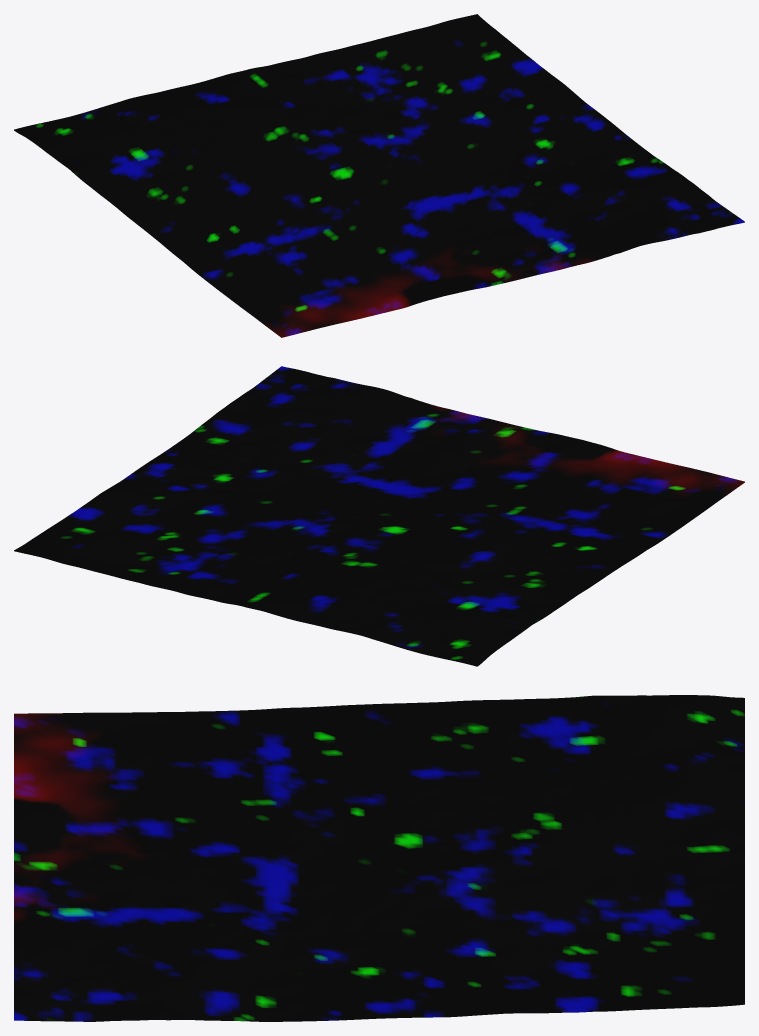
Rendered from coast_-800_-1600_800.glb.
3 views of the same model, one above another, from view 1: azimuth 30°, elevation 25°; view 2: azimuth 150°, elevation 25°; view 3: azimuth 270°, elevation 25° (orthographic). The views are drawn at different scales.
Parts seen in each view (by area): view 1: terrain; view 2: terrain; view 3: terrain.
Boxes of the visible parts, x1=… form: terrain: x1=14, y1=14, x2=744, y2=337; terrain: x1=14, y1=366, x2=744, y2=666; terrain: x1=14, y1=695, x2=744, y2=1021.
Bounding box in the file's own units: 800 × 29.8 × 800.
